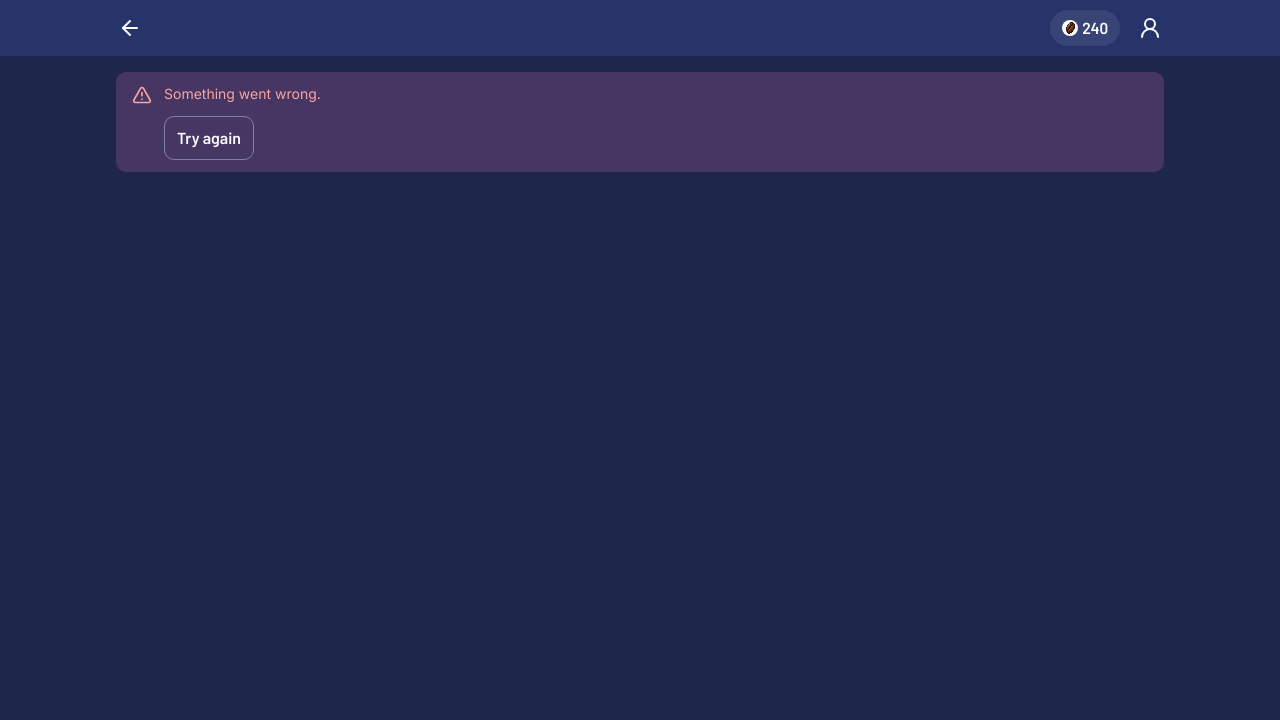
Test case: Admin: one market › a market that cannot be read shows the API's message with Try again
The width and height of the screenshot is (1280, 720).
Expected: the message shows "Something went wrong.", [164,85,321,102]
Step 1. Click the button "Try again" → (209, 138), box [164,116,254,160]
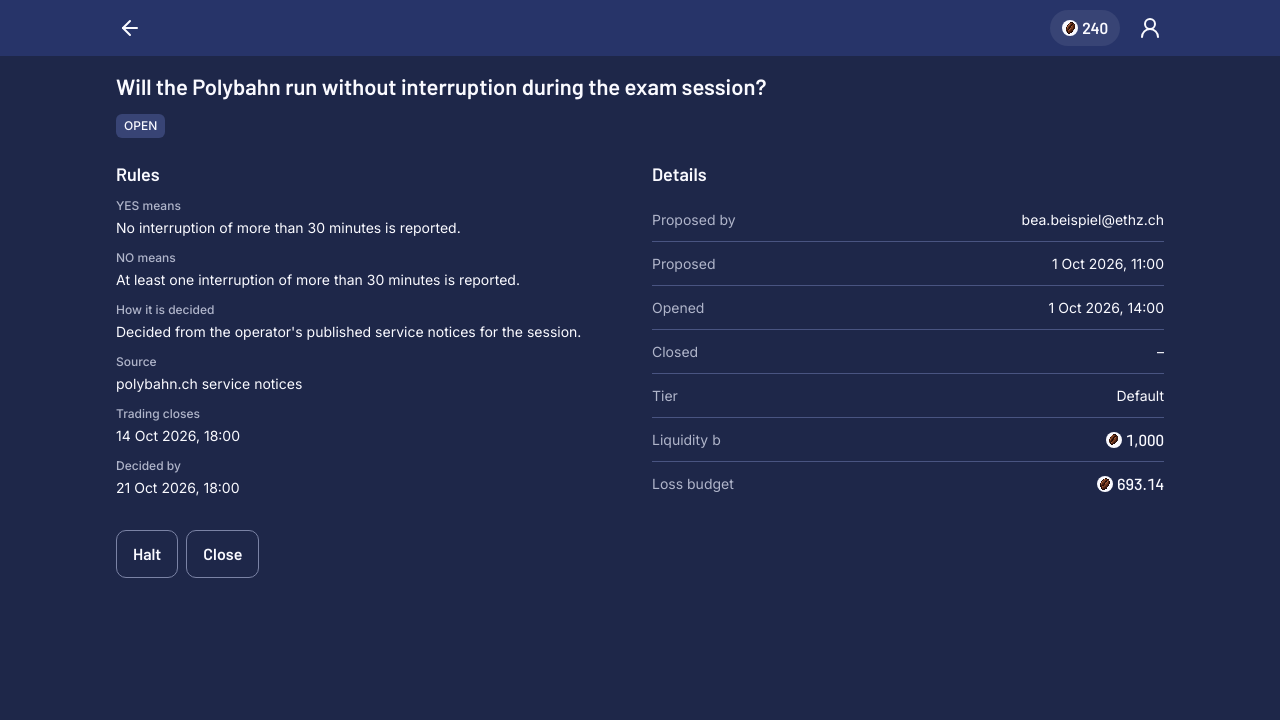
Result: the heading "Rules" is shown at [116,163,160,185]
